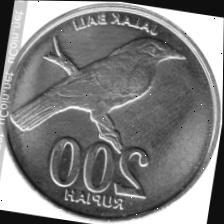coin_200_e2003: (0, 0, 221, 222)
